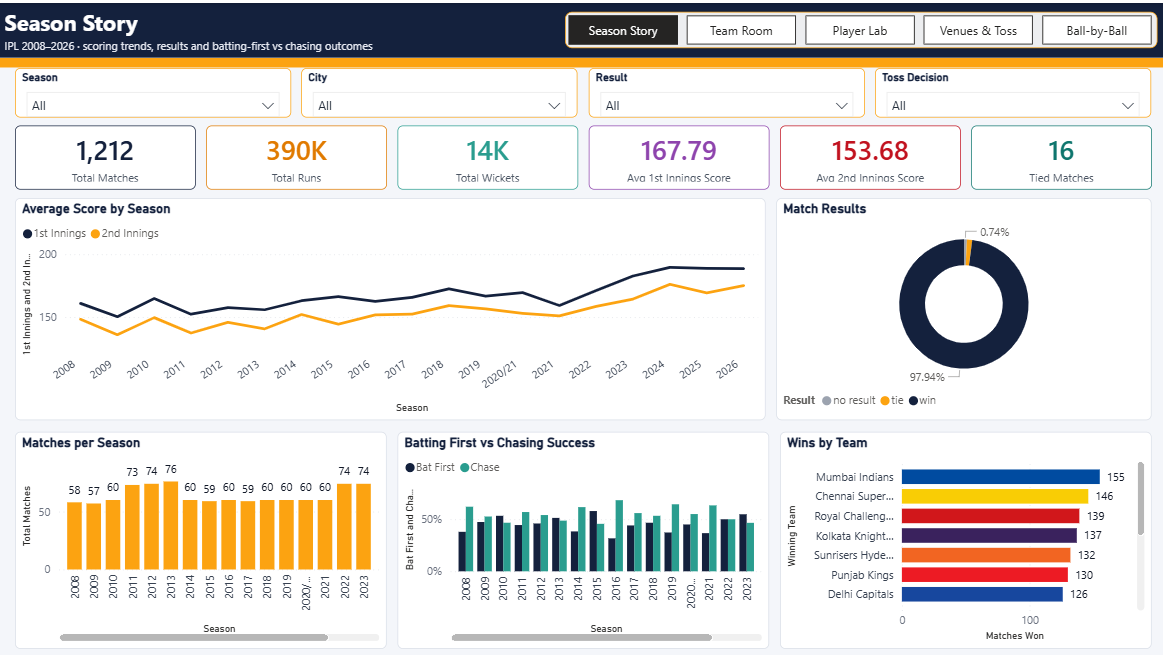

The page's visual inventory and layout, read from the dashboard file:
{"tool":"powerbi","page":{"name":"Season Story","canvas":[1280,720],"ordinal":0},"visuals":[{"type":"textbox","box":[0,0,1280,60],"z":1000},{"type":"textbox","box":[0,60,1280,4],"z":2000},{"type":"pageNavigator","box":[620,10,650,40],"z":3000},{"type":"slicer","title":"Season","fields":{"Values":["Dim Season.season"]},"box":[16,72,303,54],"z":4000},{"type":"slicer","title":"City","fields":{"Values":["Dim Venue.city"]},"box":[331,72,303,54],"z":5000},{"type":"slicer","title":"Result","fields":{"Values":["Fact Match.result"]},"box":[646,72,303,54],"z":6000},{"type":"slicer","title":"Toss Decision","fields":{"Values":["Fact Match.toss_decision"]},"box":[961,72,303,54],"z":7000},{"type":"card","fields":{"Values":["_Measures.Total Matches"]},"box":[16,134,198,70],"z":8000},{"type":"card","fields":{"Values":["_Measures.Total Runs"]},"box":[226,134,198,70],"z":9000},{"type":"card","fields":{"Values":["_Measures.Total Wickets"]},"box":[436,134,198,70],"z":10000},{"type":"card","fields":{"Values":["_Measures.Average First Innings Score"]},"box":[646,134,198,70],"z":11000},{"type":"card","fields":{"Values":["_Measures.Average Second Innings Score"]},"box":[856,134,198,70],"z":12000},{"type":"card","fields":{"Values":["_Measures.Tied Matches"]},"box":[1066,134,198,70],"z":13000},{"type":"lineChart","title":"Average Score by Season","fields":{"Category":["Dim Season.season"],"Y":["_Measures.Average First Innings Score","_Measures.Average Second Innings Score"]},"box":[16,214,824,244],"z":14000},{"type":"donutChart","title":"Match Results","fields":{"Category":["Fact Match.result"],"Y":["_Measures.Total Matches"]},"box":[852,214,412,244],"z":15000},{"type":"clusteredColumnChart","title":"Matches per Season","fields":{"Category":["Dim Season.season"],"Y":["_Measures.Total Matches"]},"box":[16,470,408,238],"z":16000},{"type":"clusteredColumnChart","title":"Batting First vs Chasing Success","fields":{"Category":["Dim Season.season"],"Y":["_Measures.Bat First Success %","_Measures.Chase Success %"]},"box":[436,470,408,238],"z":17000},{"type":"clusteredBarChart","title":"Wins by Team","fields":{"Category":["Dim Match Winner.team_name"],"Y":["_Measures.Matches Won"]},"box":[856,470,408,238],"z":18000}]}

Visuals, with their boxes in screenshot pixels (x1, y1, x2, y2), scaled from the page's 1280x720 canvas onto the 1163x655 screenshot:
textbox: left=0, top=0, right=1162, bottom=55
textbox: left=0, top=55, right=1162, bottom=58
pageNavigator: left=563, top=9, right=1154, bottom=45
"Season" slicer: left=15, top=66, right=290, bottom=115
"City" slicer: left=301, top=66, right=576, bottom=115
"Result" slicer: left=587, top=66, right=862, bottom=115
"Toss Decision" slicer: left=873, top=66, right=1148, bottom=115
card - _Measures.Total Matches: left=15, top=122, right=194, bottom=186
card - _Measures.Total Runs: left=205, top=122, right=385, bottom=186
card - _Measures.Total Wickets: left=396, top=122, right=576, bottom=186
card - _Measures.Average First Innings Score: left=587, top=122, right=767, bottom=186
card - _Measures.Average Second Innings Score: left=778, top=122, right=958, bottom=186
card - _Measures.Tied Matches: left=969, top=122, right=1148, bottom=186
"Average Score by Season" lineChart: left=15, top=195, right=763, bottom=417
"Match Results" donutChart: left=774, top=195, right=1148, bottom=417
"Matches per Season" clusteredColumnChart: left=15, top=428, right=385, bottom=644
"Batting First vs Chasing Success" clusteredColumnChart: left=396, top=428, right=767, bottom=644
"Wins by Team" clusteredBarChart: left=778, top=428, right=1148, bottom=644
